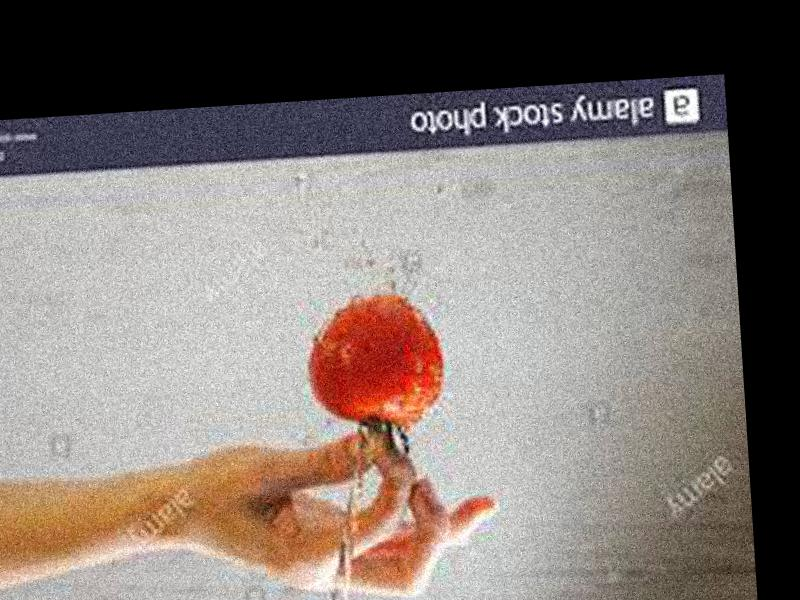Tomato: (300, 289, 442, 428)
